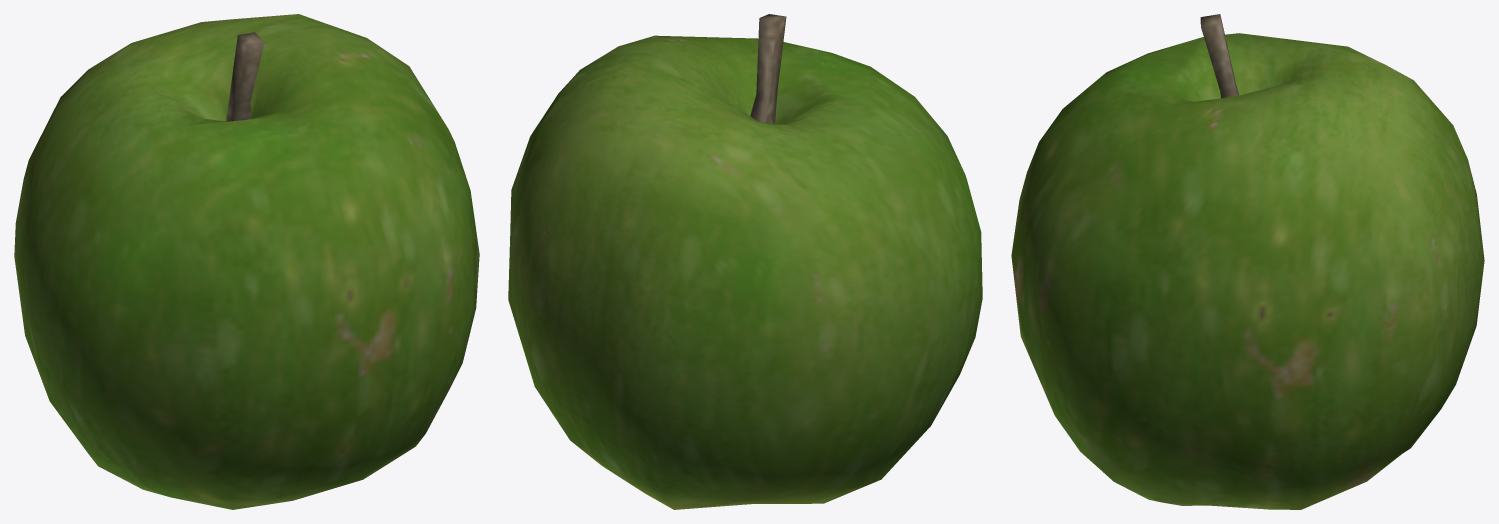
File: SM_apple_02.fbx
The picture shows the model from 3 angles, left to right: view 1: azimuth 30°, elevation 25°; view 2: azimuth 150°, elevation 25°; view 3: azimuth 270°, elevation 25°; orthographic projection.
Visible parts, largest first — view 1: SM_apple_02_LOD0; view 2: SM_apple_02_LOD0; view 3: SM_apple_02_LOD0.
Boxes of the visible parts, x1,y1,x2,y2 form: SM_apple_02_LOD0: (14,14,479,509); SM_apple_02_LOD0: (508,14,982,509); SM_apple_02_LOD0: (1011,14,1484,509).
Size of the model in its own units: 7.69 by 7.57 by 8.07.
Materials: 1 (1 with a texture image).
